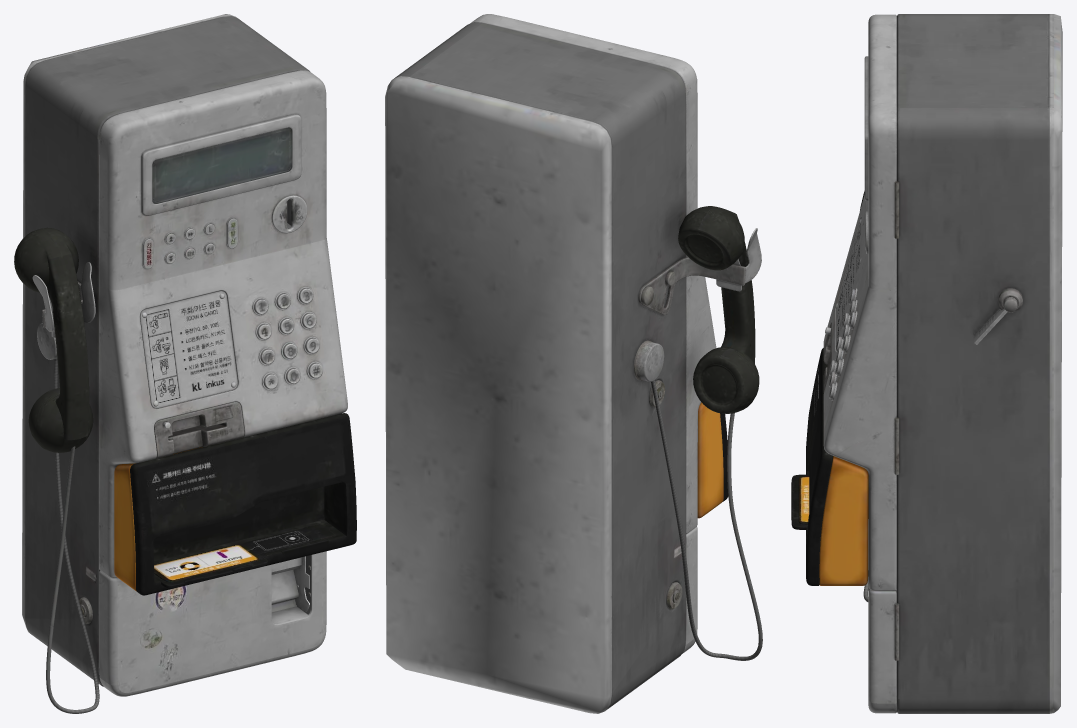
The model's file is korean_public_payphone_01.glb.
3 renders of one model, left to right at view 1: azimuth 30°, elevation 25°; view 2: azimuth 150°, elevation 25°; view 3: azimuth 270°, elevation 25°, orthographic. The views are drawn at different scales.
Parts seen in each view (by area): view 1: korean_public_payphone_01; view 2: korean_public_payphone_01; view 3: korean_public_payphone_01.
Boxes of the visible parts, x1,y1,x2,y2 form: korean_public_payphone_01: (14,14,356,713); korean_public_payphone_01: (385,14,762,713); korean_public_payphone_01: (791,14,1062,713).
Bounding box in the file's own units: 0.4005 × 0.7397 × 0.3005.
Materials: 1 (1 with a texture image).
